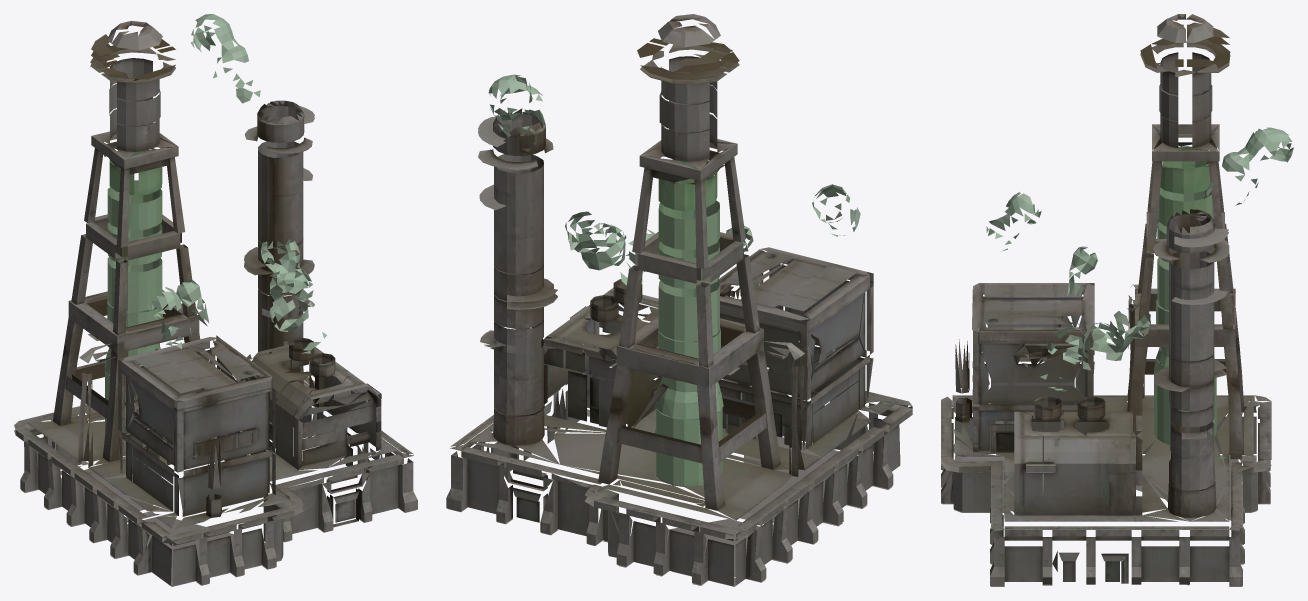
Rendered from extractor_LOD2.glb.
3 renders of one model, left to right at view 1: azimuth 30°, elevation 25°; view 2: azimuth 150°, elevation 25°; view 3: azimuth 270°, elevation 25°, orthographic. The views are drawn at different scales.
Visible parts, largest first — view 1: extractor_LOD2; view 2: extractor_LOD2; view 3: extractor_LOD2.
Boxes of the visible parts, left/top/right/bottom form: extractor_LOD2: left=14, top=14, right=417, bottom=586; extractor_LOD2: left=446, top=14, right=912, bottom=586; extractor_LOD2: left=941, top=14, right=1293, bottom=586.
Size of the model in its own units: 0.6104 by 0.9606 by 0.6515.
1 material, 1 textured.
